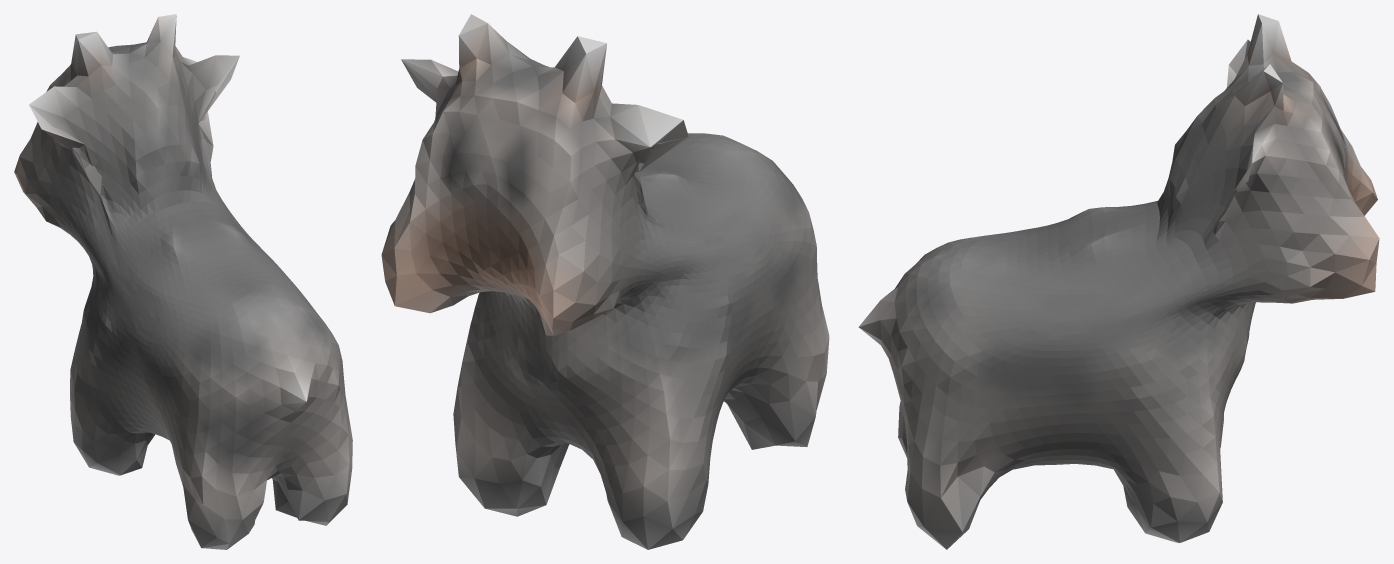
The model's file is final_colored_textured_fit.obj.
3 views of the same model, side by side, from view 1: azimuth 30°, elevation 25°; view 2: azimuth 150°, elevation 25°; view 3: azimuth 270°, elevation 25° (orthographic). The views are drawn at different scales.
Size of the model in its own units: 1.07 by 2 by 1.99.
